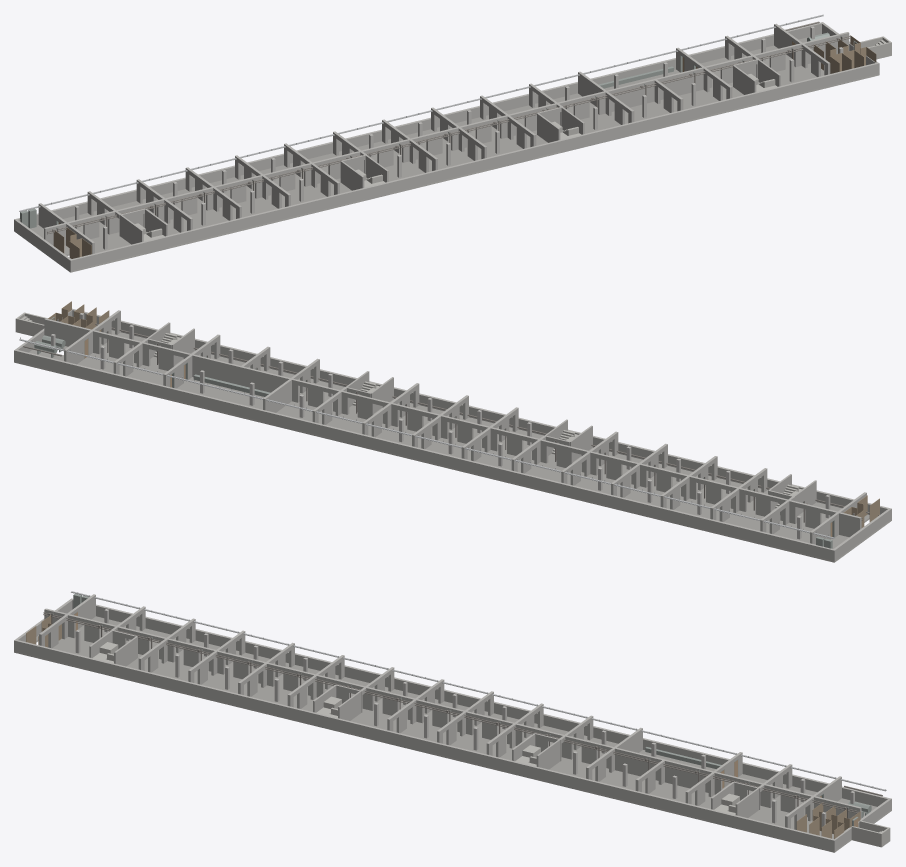
File: b1_basement.glb
3 renders of one model, top to bottom at view 1: azimuth 30°, elevation 25°; view 2: azimuth 150°, elevation 25°; view 3: azimuth 330°, elevation 25°, orthographic.
Visible parts, largest first — view 1: b1_bsm_wall_f-1__basement_wall, b1_bsm_floor_f-1__basement_floor, b1_bsm_pipe_f-1__pipe, b1_bsm_column_f-1__column, b1_bsm_grid_f-1__storage_grid, b1_bsm_tray_f-1__cable_tray, b1_bsm_floor_f-1__slab_edge, b1_bsm_equip_f-1__equipment, b1_bsm_fill_f-1__monolith; view 2: b1_bsm_wall_f-1__basement_wall, b1_bsm_floor_f-1__basement_floor, b1_bsm_column_f-1__column, b1_bsm_tray_f-1__cable_tray, b1_bsm_floor_f-1__slab_edge, b1_bsm_pipe_f-1__pipe, b1_bsm_grid_f-1__storage_grid, b1_bsm_equip_f-1__equipment, b1_bsm_pit_f-1__monolith, b1_bsm_stairs_f-1__monolith; view 3: b1_bsm_wall_f-1__basement_wall, b1_bsm_floor_f-1__basement_floor, b1_bsm_pipe_f-1__pipe, b1_bsm_column_f-1__column, b1_bsm_tray_f-1__cable_tray, b1_bsm_grid_f-1__storage_grid, b1_bsm_floor_f-1__slab_edge, b1_bsm_fill_f-1__monolith, b1_bsm_equip_f-1__equipment, b1_bsm_pit_f-1__monolith.
Part boxes in pixels (x1,y1,x2,y2): b1_bsm_wall_f-1__basement_wall: (14,22,879,272); b1_bsm_floor_f-1__basement_floor: (28,34,824,254); b1_bsm_pipe_f-1__pipe: (47,21,850,234); b1_bsm_column_f-1__column: (75,26,843,249); b1_bsm_grid_f-1__storage_grid: (53,35,876,258); b1_bsm_tray_f-1__cable_tray: (19,14,823,211); b1_bsm_floor_f-1__slab_edge: (14,74,879,272); b1_bsm_equip_f-1__equipment: (20,32,857,229); b1_bsm_fill_f-1__monolith: (135,74,777,241); b1_bsm_wall_f-1__basement_wall: (14,308,891,560); b1_bsm_floor_f-1__basement_floor: (29,330,869,548); b1_bsm_column_f-1__column: (51,313,830,539); b1_bsm_tray_f-1__cable_tray: (19,337,834,538); b1_bsm_floor_f-1__slab_edge: (14,347,891,562); b1_bsm_pipe_f-1__pipe: (23,319,879,522); b1_bsm_grid_f-1__storage_grid: (48,301,879,527); b1_bsm_equip_f-1__equipment: (34,317,853,548); b1_bsm_pit_f-1__monolith: (15,312,47,336); b1_bsm_stairs_f-1__monolith: (153,333,798,508); b1_bsm_wall_f-1__basement_wall: (14,594,891,852); b1_bsm_floor_f-1__basement_floor: (36,616,876,838); b1_bsm_pipe_f-1__pipe: (43,612,882,818); b1_bsm_column_f-1__column: (75,609,854,826); b1_bsm_tray_f-1__cable_tray: (71,591,886,791); b1_bsm_grid_f-1__storage_grid: (26,615,860,838); b1_bsm_floor_f-1__slab_edge: (14,640,891,852); b1_bsm_fill_f-1__monolith: (92,642,739,814); b1_bsm_equip_f-1__equipment: (52,593,871,826); b1_bsm_pit_f-1__monolith: (851,820,890,847).
Size of the model in its own units: 103 by 2.68 by 12.
